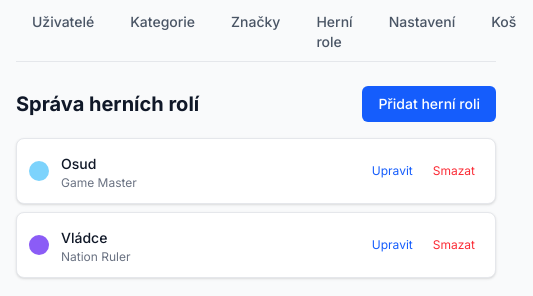
Scenario: GameRoleManagement › delete role removes from list
Expected: the text "Osud" is shown, top-left (61, 155), bottom-right (96, 172)
Click the button "Smazat" in the row of "Game Master" at (454,171), box top-left (425, 159), bottom-right (483, 183)
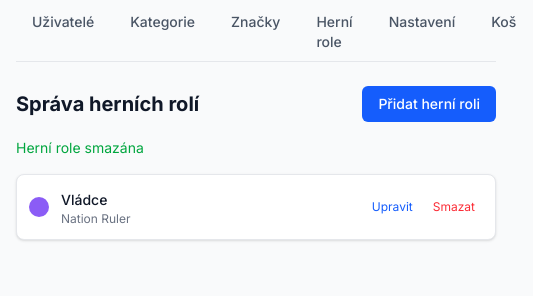
Expected: the text "Herní role smazána" is shown, top-left (16, 139), bottom-right (144, 156)
